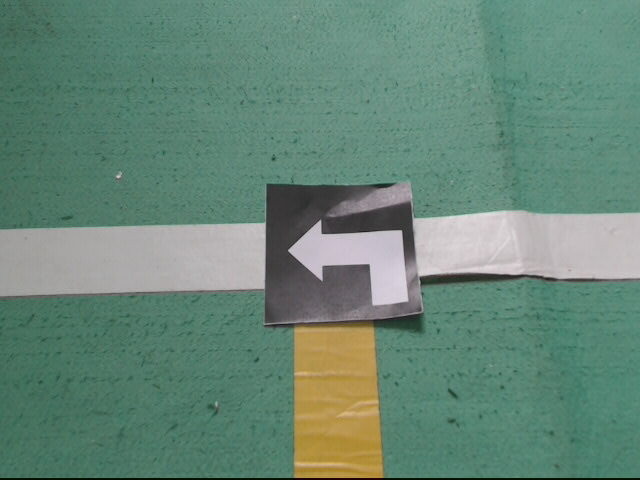left: (262, 178, 425, 327)
